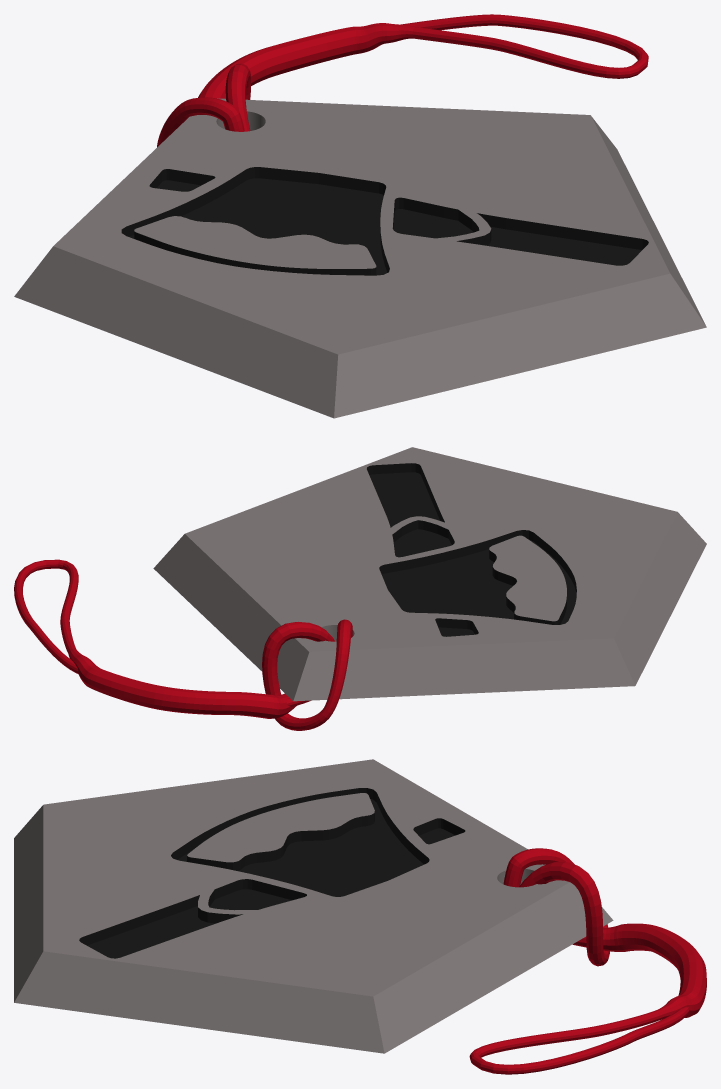
3 renders of one model, top to bottom at view 1: azimuth 30°, elevation 25°; view 2: azimuth 150°, elevation 25°; view 3: azimuth 270°, elevation 25°, orthographic. The views are drawn at different scales.
Visible parts, largest first — view 1: 円.004, ベジエカーブ; view 2: 円.004, ベジエカーブ; view 3: 円.004, ベジエカーブ.
Boxes of the visible parts, x1,y1,x2,y2 form: 円.004: [14, 98, 706, 418]; ベジエカーブ: [157, 14, 648, 147]; 円.004: [153, 447, 706, 701]; ベジエカーブ: [14, 559, 352, 730]; 円.004: [14, 759, 613, 1053]; ベジエカーブ: [469, 848, 706, 1074].
Size of the model in its own units: 1.22 by 0.1938 by 1.16.
